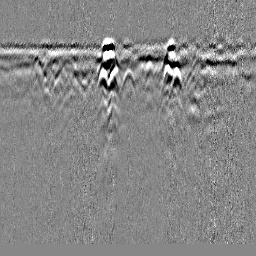cavity: (119, 66, 137, 97)
